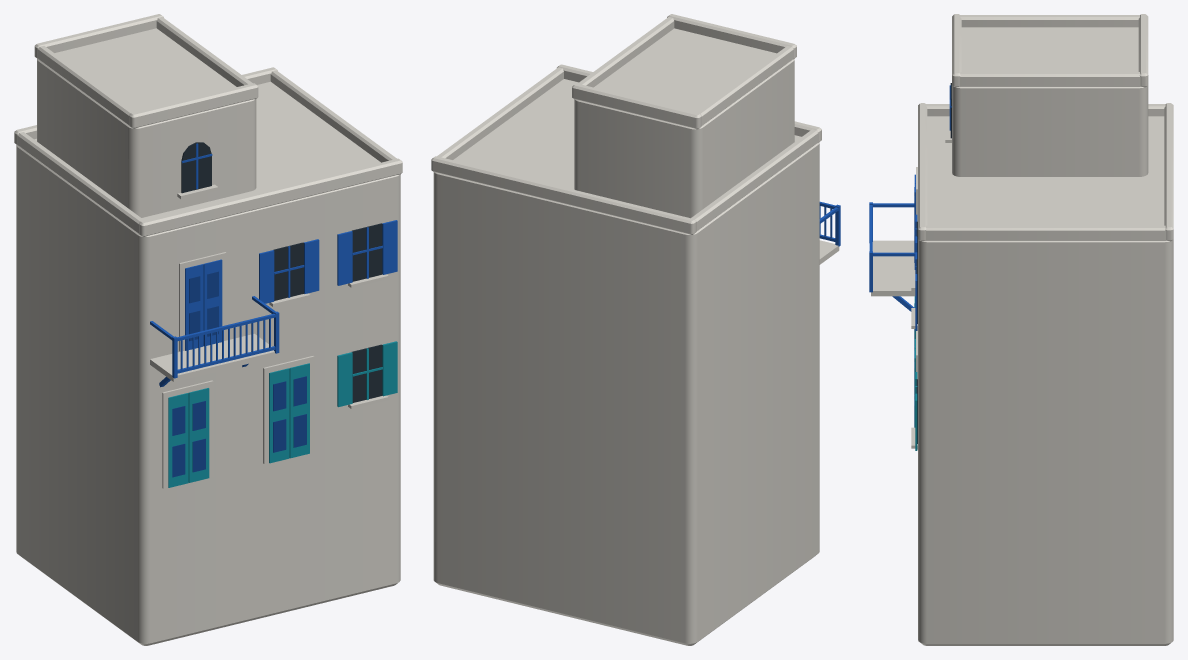
The model's file is balcony.glb.
The picture shows the model from 3 angles, left to right: view 1: azimuth 30°, elevation 25°; view 2: azimuth 150°, elevation 25°; view 3: azimuth 270°, elevation 25°; orthographic projection.
Visible parts, largest first — view 1: white0, white5, white1, white60, white3, white6, white4, white8, white7, pane48, pane26, white10 (+18 smaller); view 2: white0, white5, white2, white3, white7, white4, white6, white8, white9, white1; view 3: white0, white5, white4, white9, white8, white60, white2, white1, white7, white6, white3.
Part boxes in pixels (x1=…): white0: x1=16, y1=81, x2=400, y2=645; white5: x1=37, y1=28, x2=256, y2=217; white1: x1=139, y1=158, x2=402, y2=237; white60: x1=150, y1=333, x2=278, y2=381; white3: x1=17, y1=132, x2=144, y2=233; white6: x1=129, y1=83, x2=258, y2=128; white4: x1=270, y1=70, x2=396, y2=162; white8: x1=37, y1=46, x2=134, y2=124; white7: x1=34, y1=14, x2=163, y2=58; pane48: x1=352, y1=223, x2=382, y2=281; pane26: x1=352, y1=344, x2=382, y2=402; white10: x1=162, y1=380, x2=213, y2=488; white0: x1=433, y1=79, x2=819, y2=645; white5: x1=574, y1=28, x2=794, y2=218; white2: x1=431, y1=156, x2=696, y2=234; white3: x1=691, y1=129, x2=818, y2=231; white7: x1=572, y1=83, x2=701, y2=129; white4: x1=437, y1=67, x2=563, y2=159; white6: x1=667, y1=14, x2=796, y2=59; white8: x1=696, y1=46, x2=793, y2=125; white9: x1=578, y1=17, x2=674, y2=87; white1: x1=557, y1=64, x2=821, y2=142; white0: x1=918, y1=116, x2=1173, y2=645; white5: x1=952, y1=27, x2=1148, y2=176; white4: x1=925, y1=225, x2=1166, y2=240; white9: x1=959, y1=72, x2=1140, y2=86; white8: x1=960, y1=15, x2=1139, y2=27; white60: x1=871, y1=240, x2=915, y2=296; white2: x1=1164, y1=103, x2=1173, y2=241; white1: x1=918, y1=103, x2=927, y2=241; white7: x1=1138, y1=14, x2=1148, y2=87; white6: x1=952, y1=14, x2=961, y2=87; white3: x1=926, y1=104, x2=1165, y2=116.
Bounding box in the file's own units: 7 × 13.26 × 7.14.
